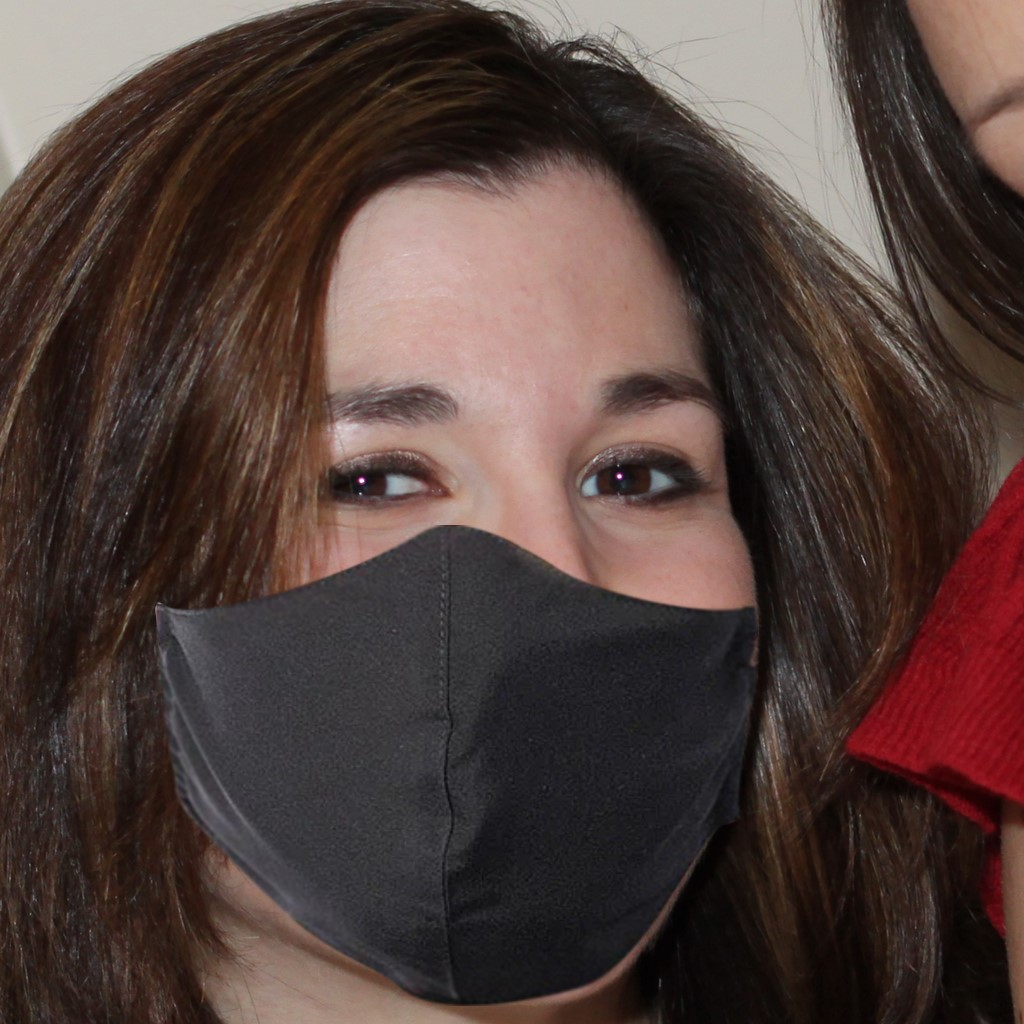con_mascara: (117, 126, 765, 998)
